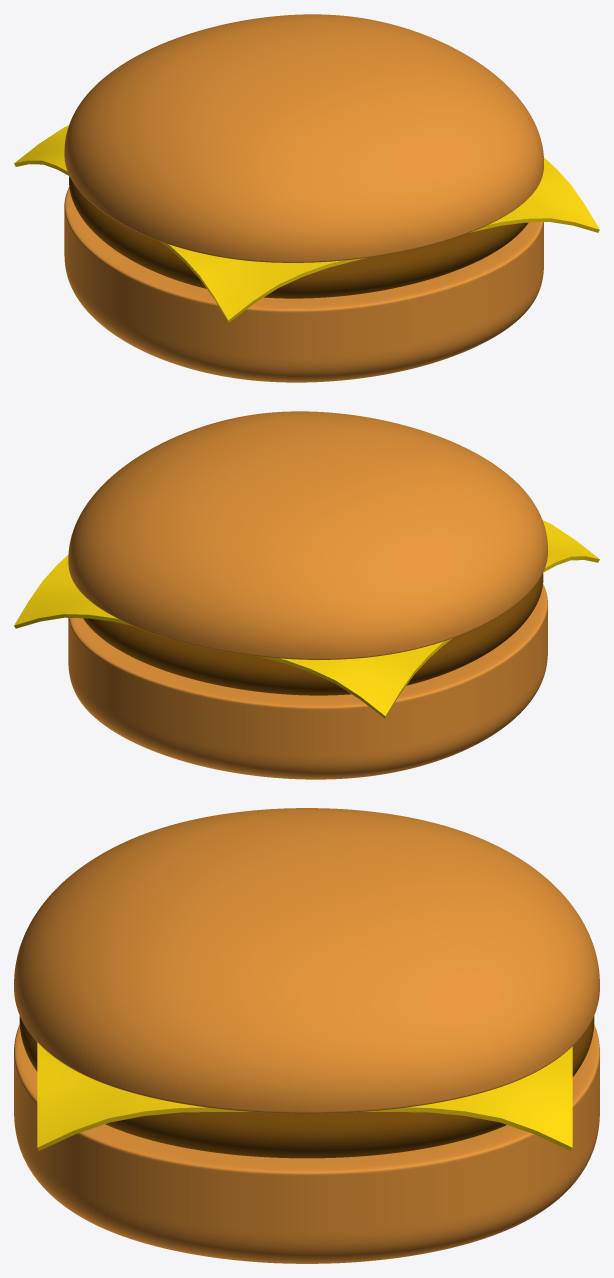
The model's file is hamburger.glb.
3 views of the same model, one above another, from view 1: azimuth 30°, elevation 25°; view 2: azimuth 150°, elevation 25°; view 3: azimuth 270°, elevation 25° (orthographic). The views are drawn at different scales.
Visible parts, largest first — view 1: Cube.003, Cube.001, Cube.002, Plane; view 2: Cube.003, Cube.001, Cube.002, Plane; view 3: Cube.003, Cube.001, Cube.002, Plane.
Part boxes in pixels (x1,y1,x2,y2): Cube.003: [64, 14, 543, 262]; Cube.001: [64, 187, 543, 382]; Cube.002: [69, 176, 528, 298]; Plane: [14, 125, 599, 322]; Cube.003: [68, 411, 547, 659]; Cube.001: [68, 584, 547, 779]; Cube.002: [83, 573, 543, 695]; Plane: [14, 520, 599, 718]; Cube.003: [14, 808, 599, 1113]; Cube.001: [14, 1025, 599, 1263]; Cube.002: [19, 1016, 594, 1158]; Plane: [37, 1042, 572, 1150].
Size of the model in its own units: 9.17 by 5.45 by 9.17.
